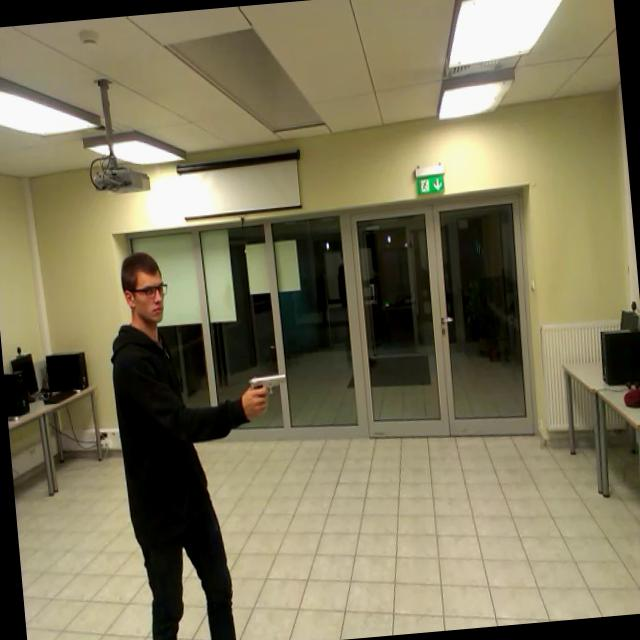handgun: (243, 367, 298, 423)
